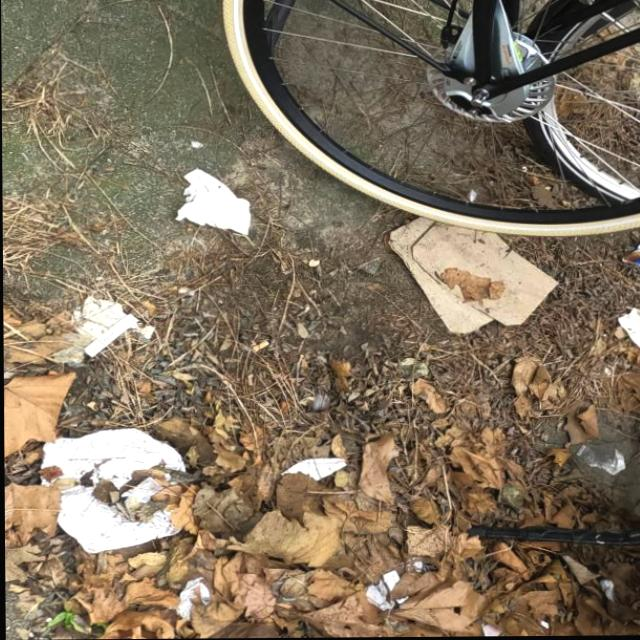Paper: (39, 426, 194, 556), (173, 168, 251, 238), (69, 295, 128, 341), (362, 570, 409, 610), (278, 458, 347, 481), (616, 308, 640, 364)
Plastic: (619, 239, 640, 273)
